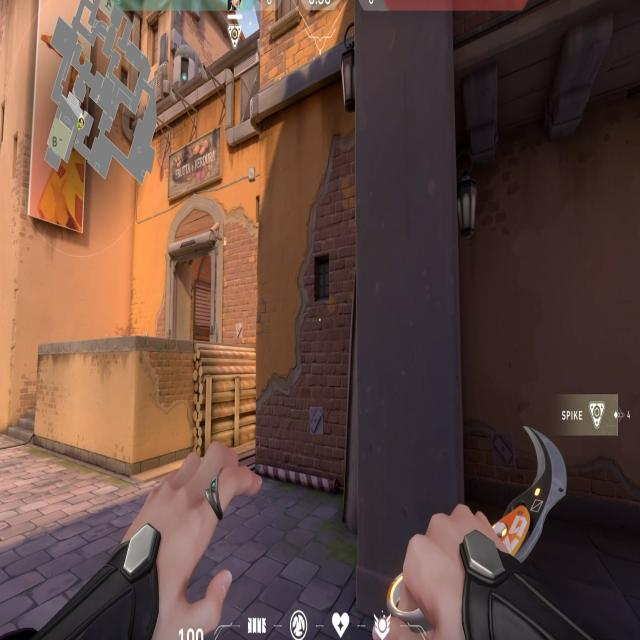B_Cubby: (132, 315, 260, 479)
